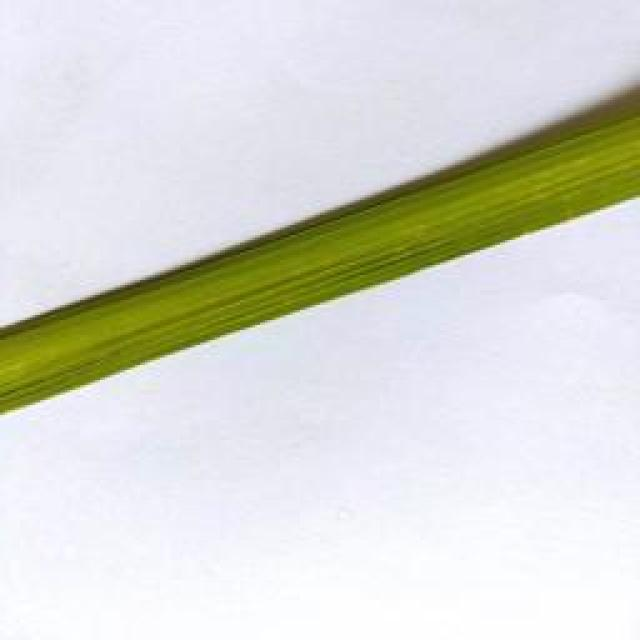Healthy-Plant: (0, 117, 637, 408)
